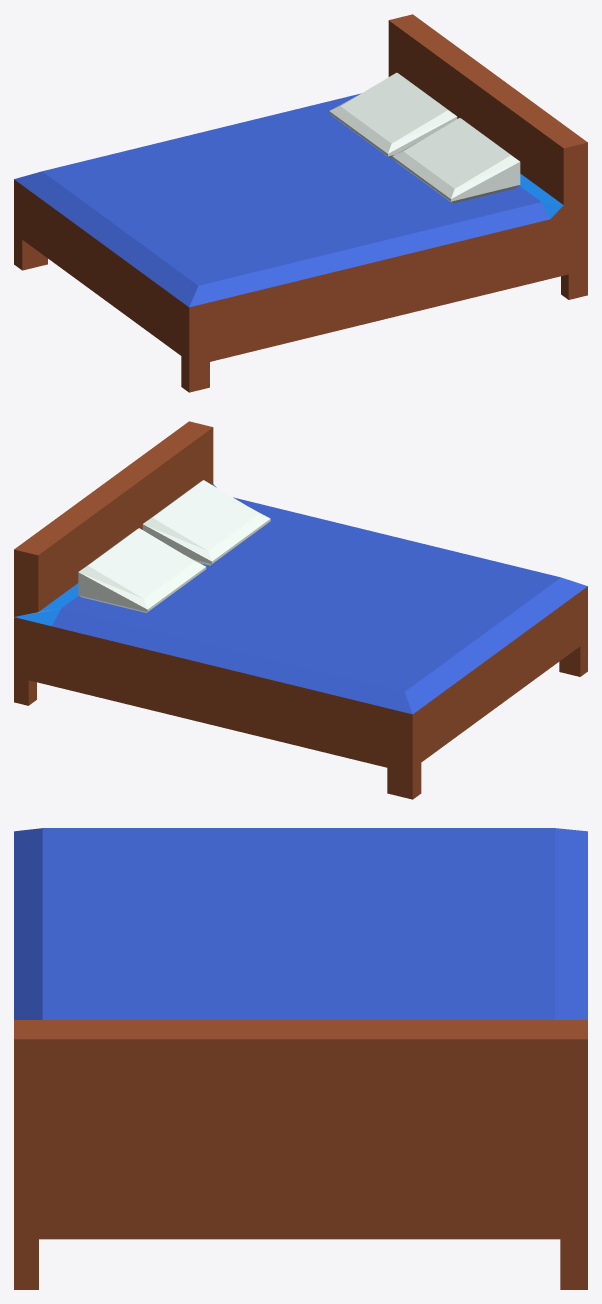
Rendered from Bed.dae.
The picture shows the model from 3 angles, top to bottom: view 1: azimuth 30°, elevation 25°; view 2: azimuth 150°, elevation 25°; view 3: azimuth 270°, elevation 25°; orthographic projection. The views are drawn at different scales.
Parts seen in each view (by area): view 1: Bed (×3), group_2, group_1; view 2: Bed (×2), group_1, group_2; view 3: Bed (×2).
Part boxes in pixels (left/top/right/bottom): Bed (×3): left=14, top=14, right=587, bottom=392; group_2: left=392, top=118, right=520, bottom=203; group_1: left=329, top=72, right=457, bottom=157; Bed (×2): left=14, top=421, right=587, bottom=799; group_1: left=78, top=528, right=206, bottom=612; group_2: left=142, top=480, right=270, bottom=565; Bed (×2): left=14, top=828, right=587, bottom=1289.
Size of the model in its own units: 192 by 146 by 70.27.
